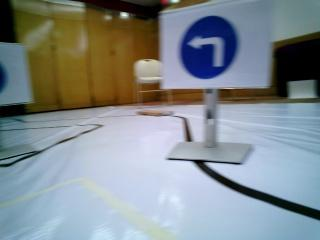left: (161, 11, 264, 88)
